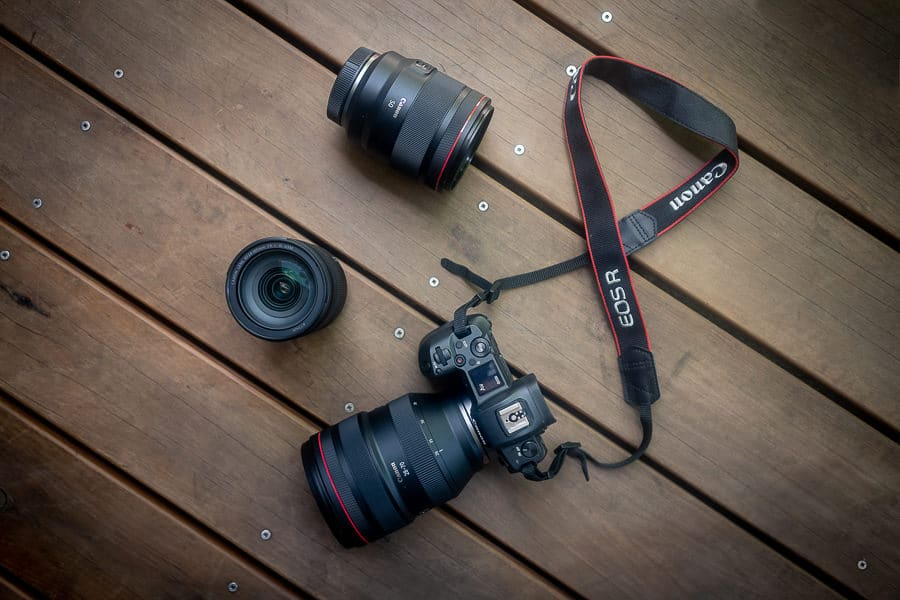camera: (300, 319, 558, 545)
